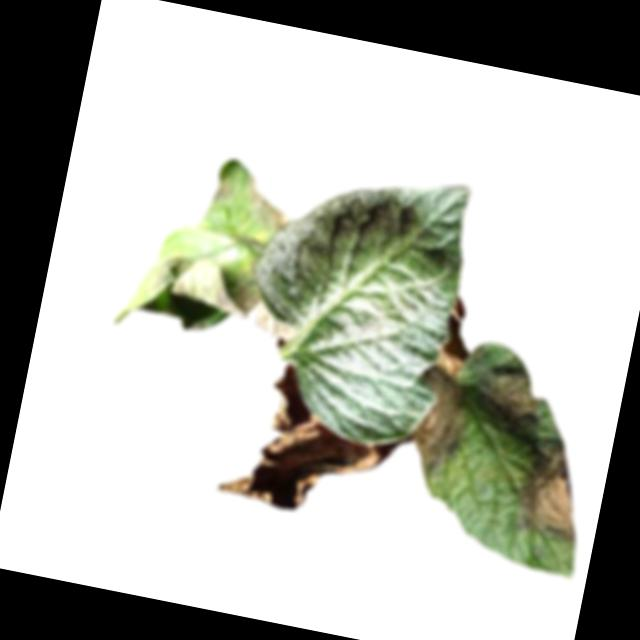Late_blight: (221, 354, 398, 529), (509, 438, 603, 547), (400, 364, 475, 478), (200, 272, 305, 343), (468, 357, 549, 433), (436, 295, 484, 380), (237, 175, 299, 235), (148, 251, 198, 299), (213, 175, 233, 205)
healthy: (226, 148, 476, 457)
